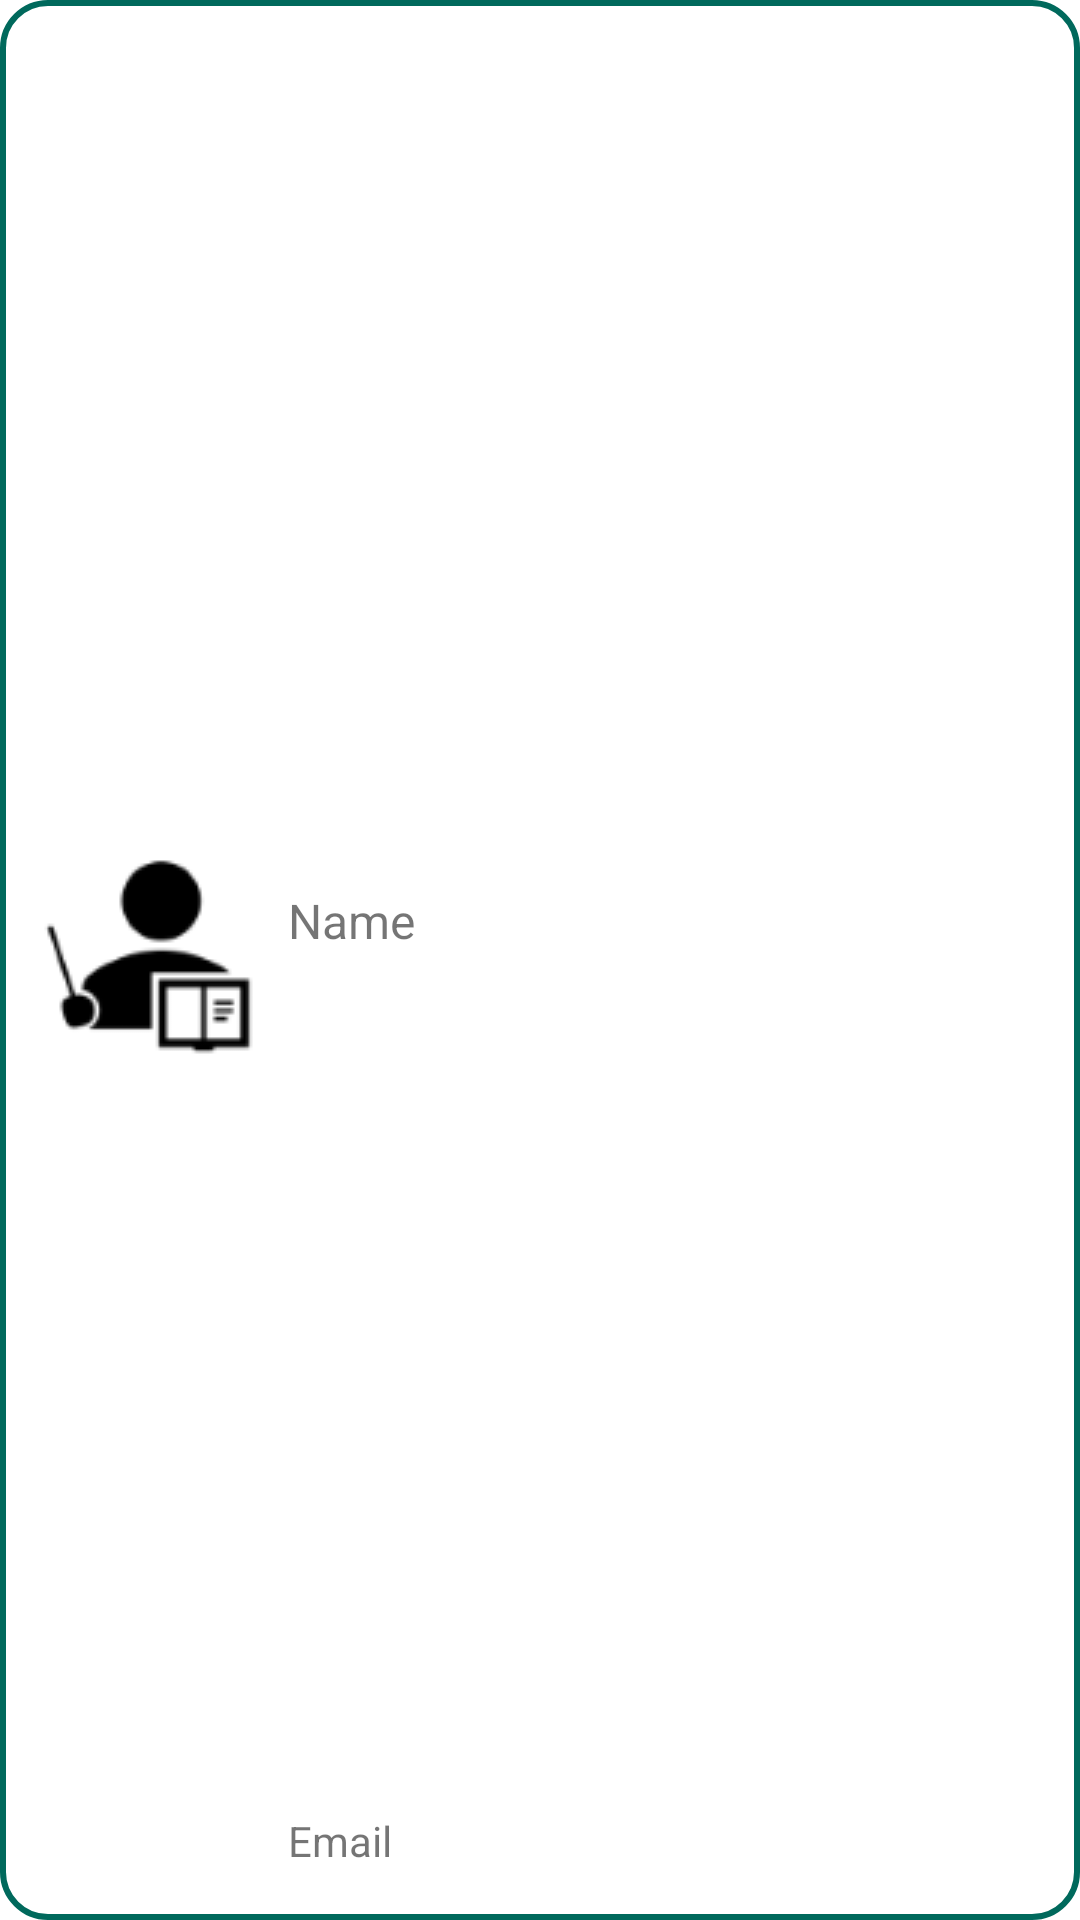

Icons on this 1080x1920 Android screen, each with the point to tap as point (x, y):
teacher: point (149, 956)
